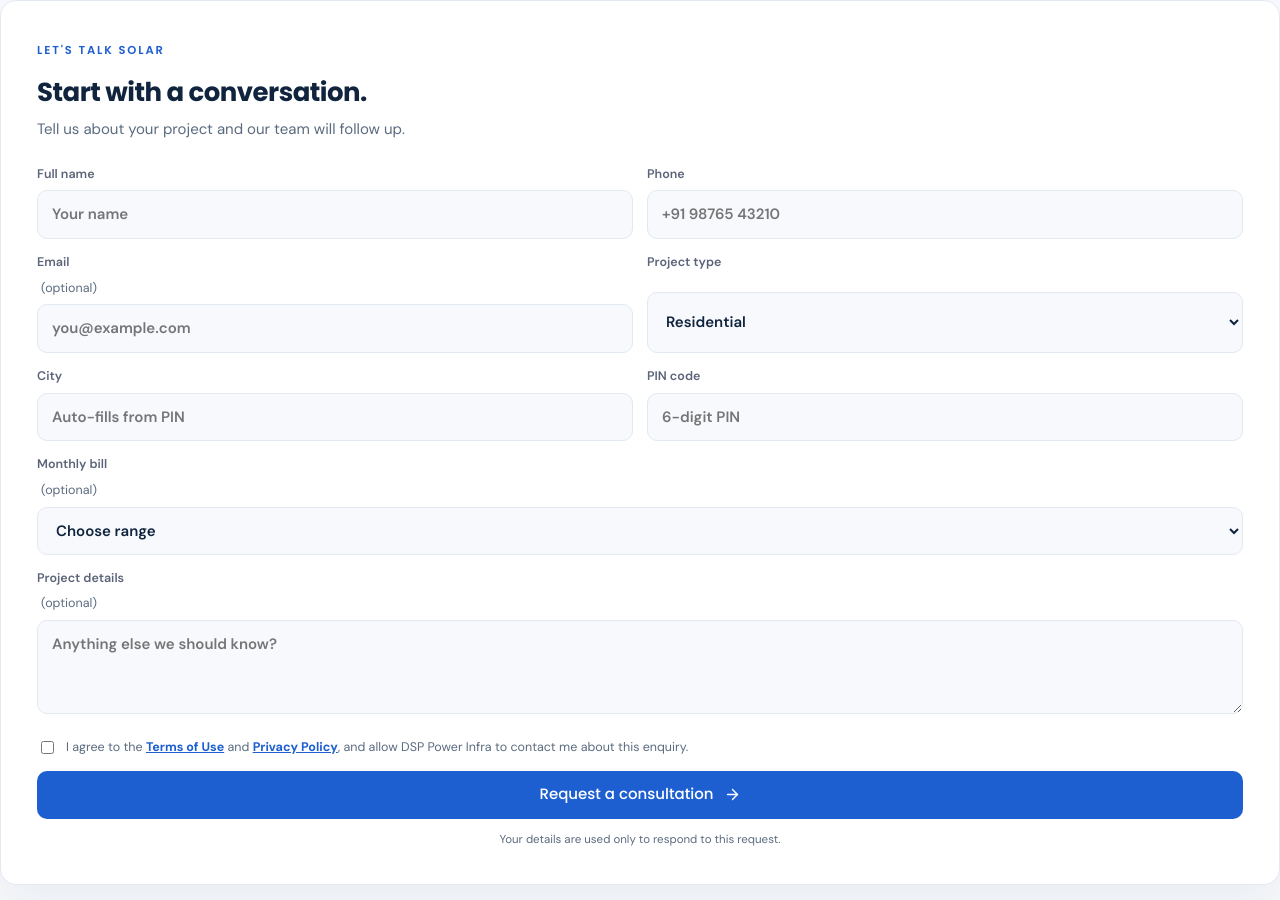
Test: LeadForm › submits the autofilled city with the lead
This screenshot has width=1280, height=900.
Step 1. Type "Asha Kulkarni" into the field labelled "Full name" → [335, 215], box 37,190 -> 633,239
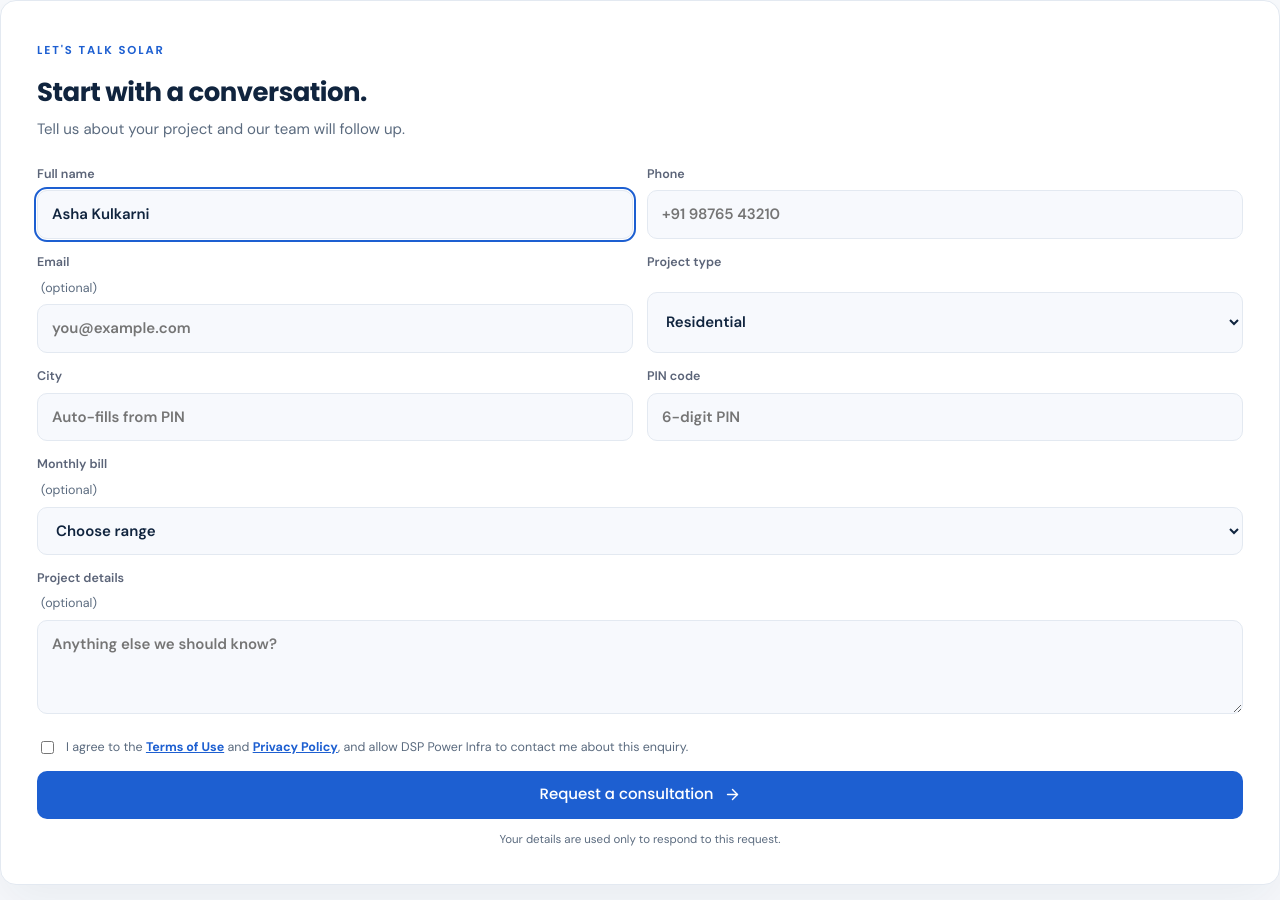
Step 2. Type "9876543210" into the field labelled "Phone" → [945, 215], box 647,190 -> 1243,239
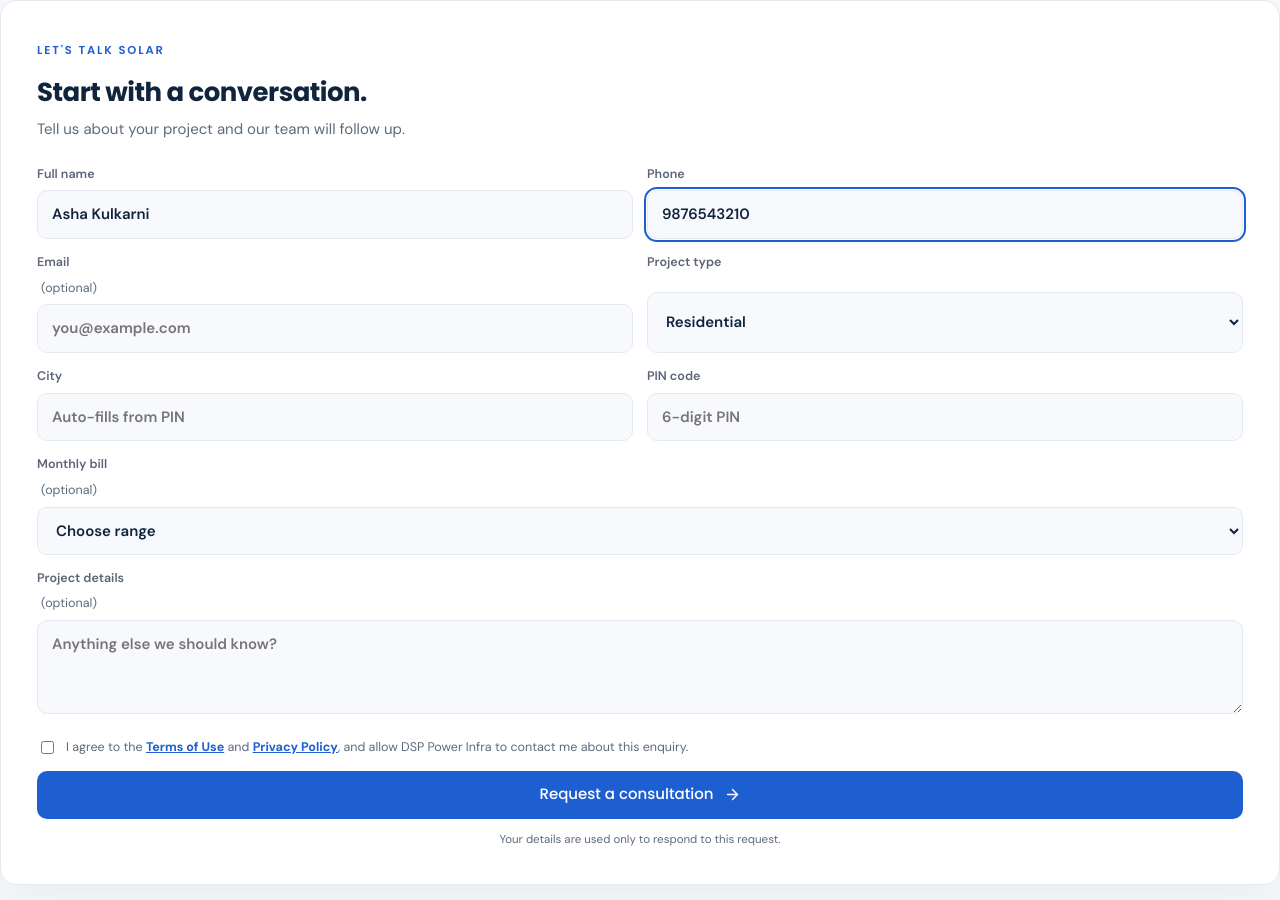
Step 3. Type "411046" into the field labelled "PIN code" → [945, 417], box 647,392 -> 1243,441
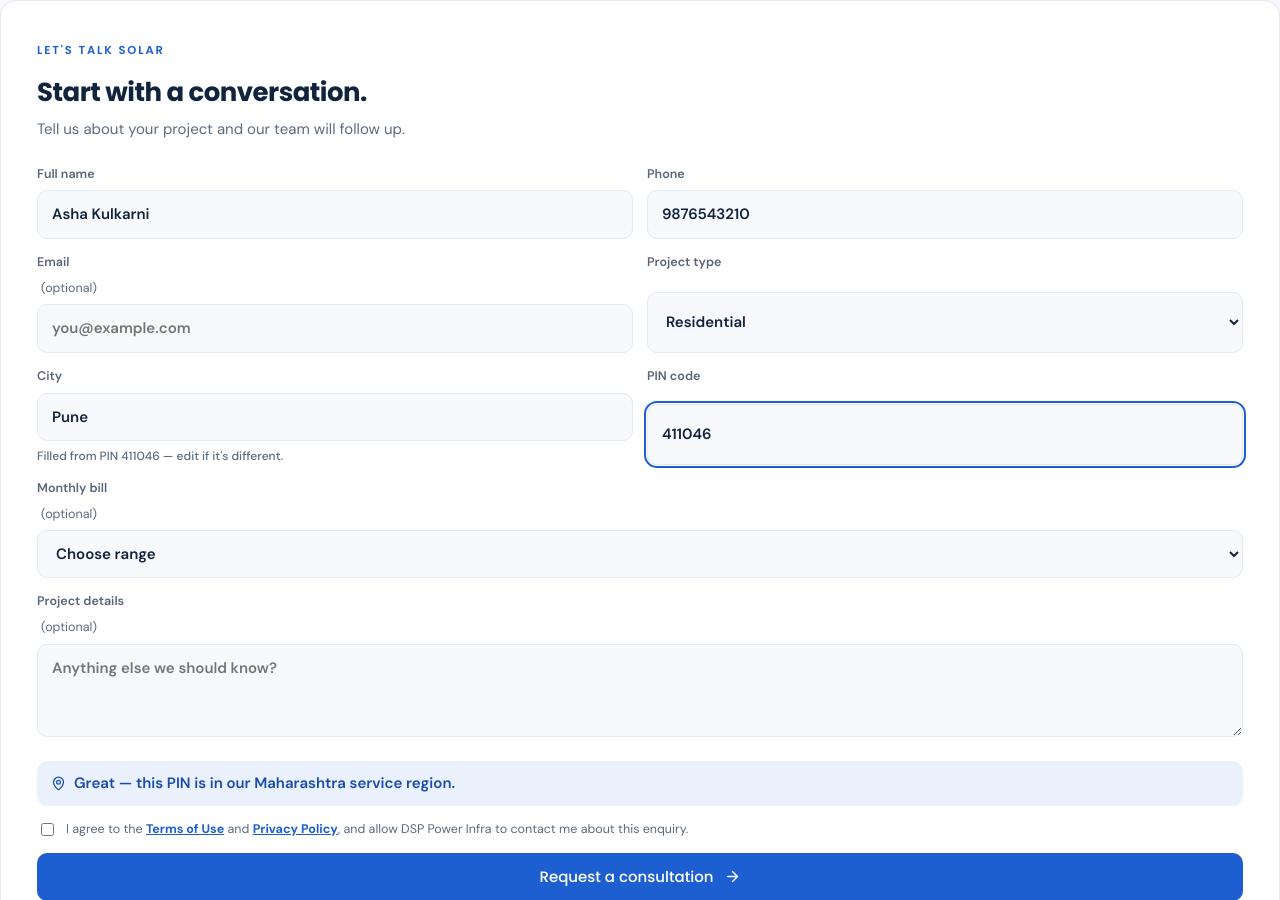
Check: the field labelled "City Filled from PIN 411046 — edit if it's different." holds "Pune", box 37,392 -> 633,441
Step 4. Click the checkbox → [48, 829], box 41,823 -> 54,836
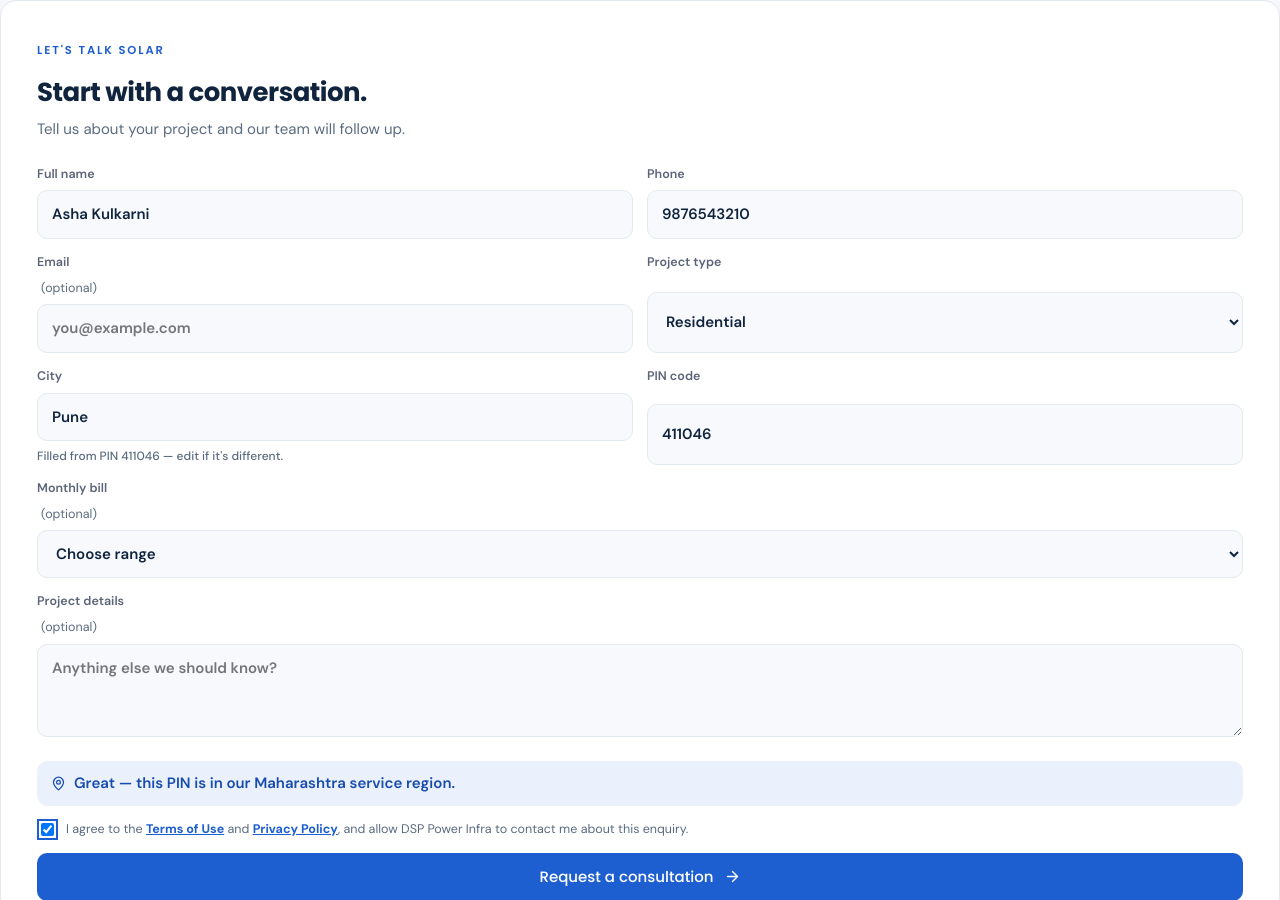
Step 5. Click the button "Request a consultation" → [640, 877], box 37,853 -> 1243,899
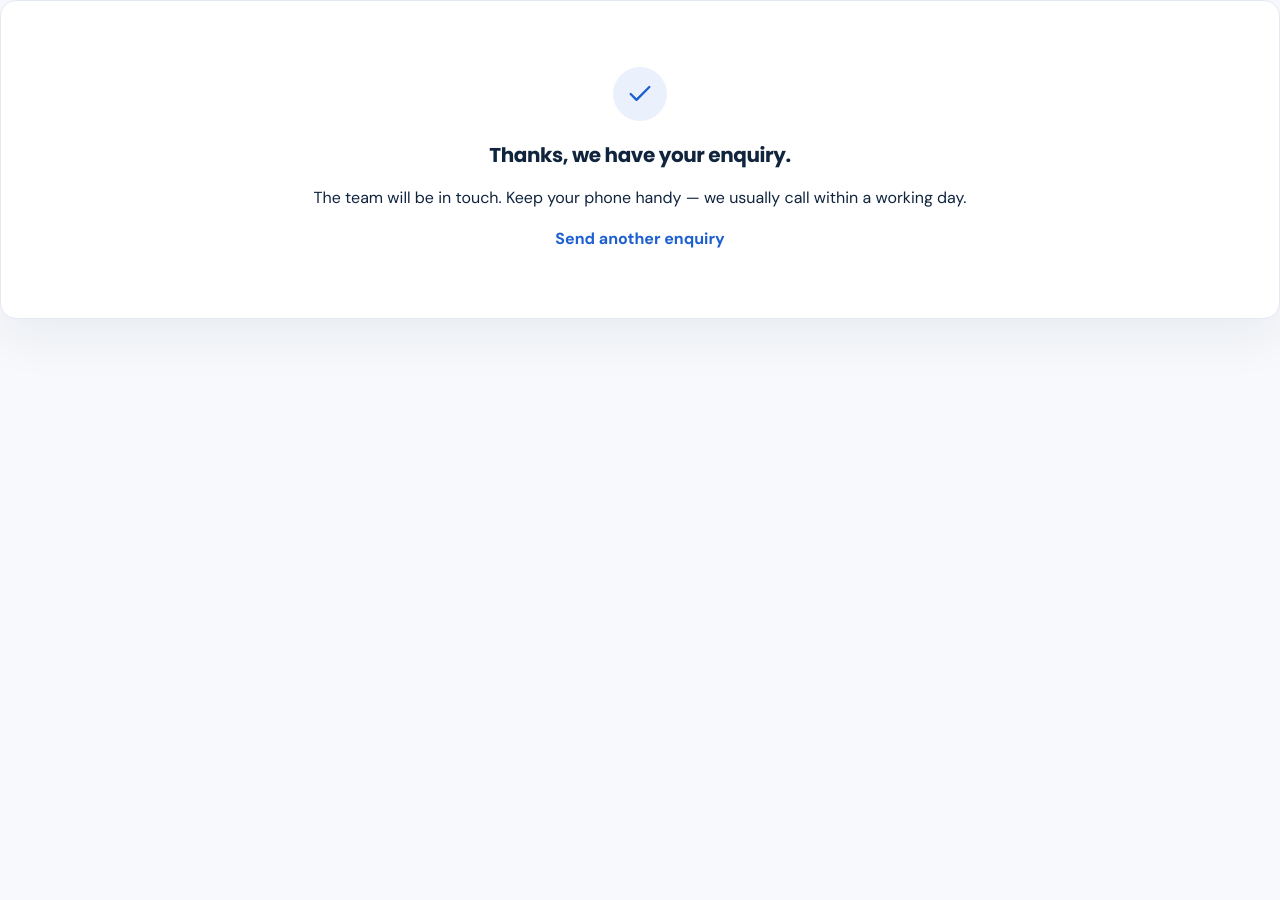
Check: the heading "Thanks, we have your enquiry." is shown, box 489,141 -> 791,169
